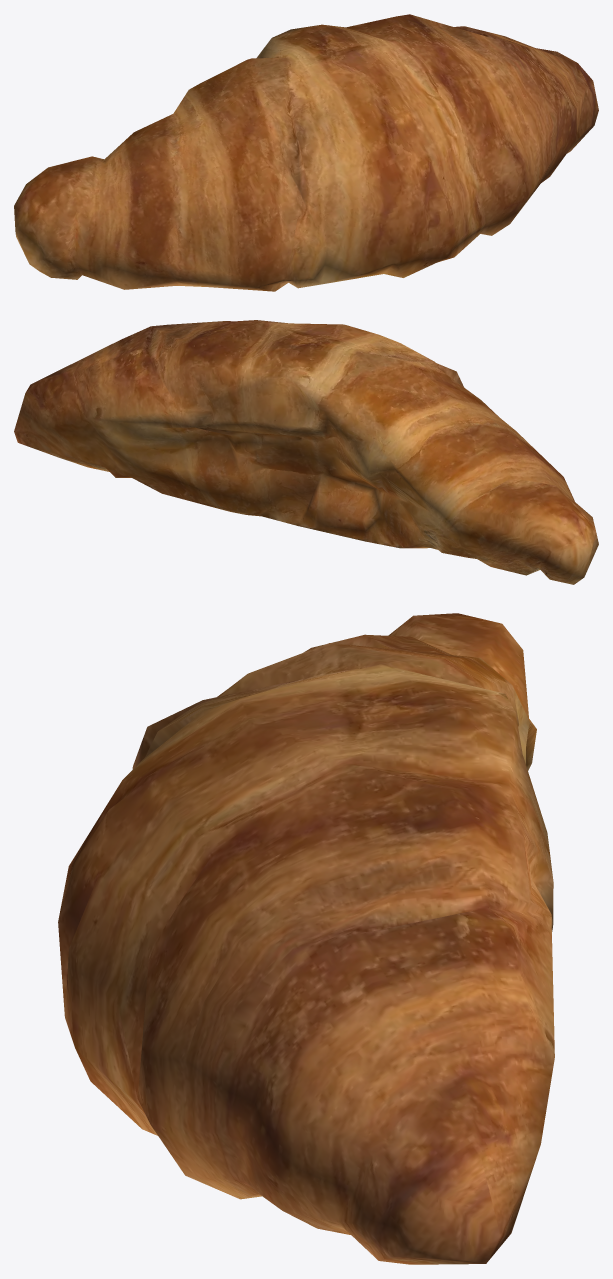
The model's file is croissant.glb.
3 renders of one model, top to bottom at view 1: azimuth 30°, elevation 25°; view 2: azimuth 150°, elevation 25°; view 3: azimuth 270°, elevation 25°, orthographic. The views are drawn at different scales.
Parts seen in each view (by area): view 1: croissant; view 2: croissant; view 3: croissant.
Part boxes in pixels (bbox=[...]): croissant: bbox=[14, 14, 598, 291]; croissant: bbox=[14, 320, 598, 584]; croissant: bbox=[58, 613, 554, 1264].
Bounding box in the file's own units: 0.1993 × 0.0617 × 0.075.
1 material, 1 textured.
